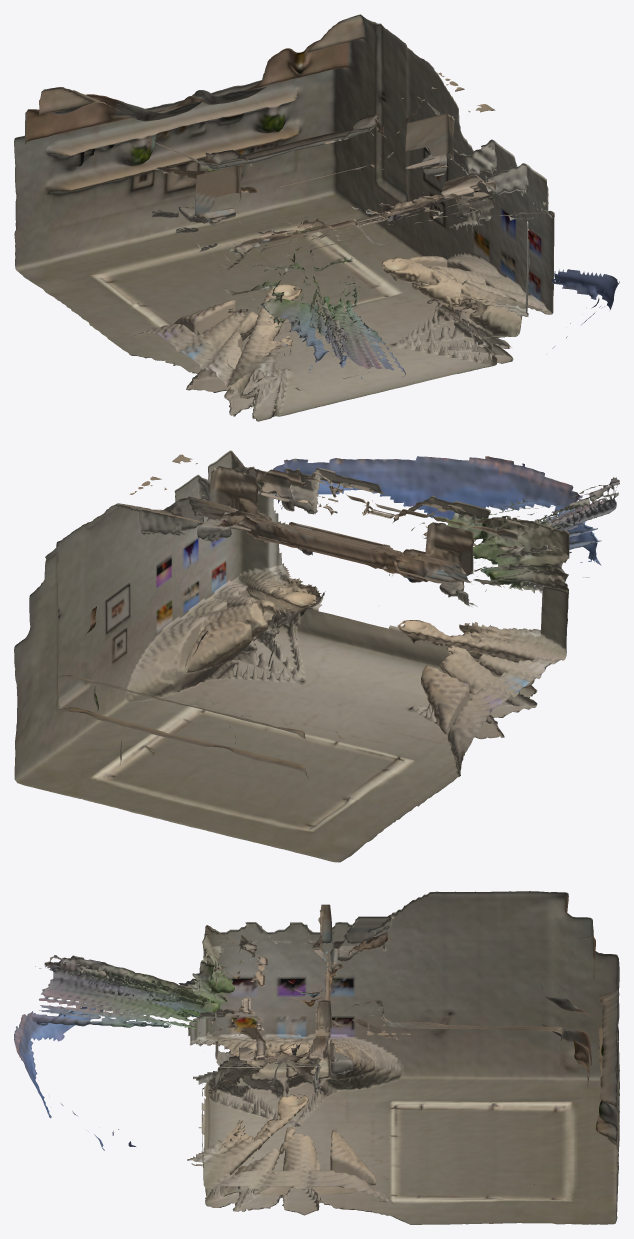
Rendered from memory-studio-collider.glb.
3 views of the same model, one above another, from view 1: azimuth 30°, elevation 25°; view 2: azimuth 150°, elevation 25°; view 3: azimuth 270°, elevation 25° (orthographic). The views are drawn at different scales.
Visible parts, largest first — view 1: world; view 2: world; view 3: world.
Boxes of the visible parts, bbox=[...] form: world: bbox=[14, 14, 619, 421]; world: bbox=[14, 450, 619, 862]; world: bbox=[14, 891, 619, 1224].
Size of the model in its own units: 4.33 by 2.51 by 7.18.
